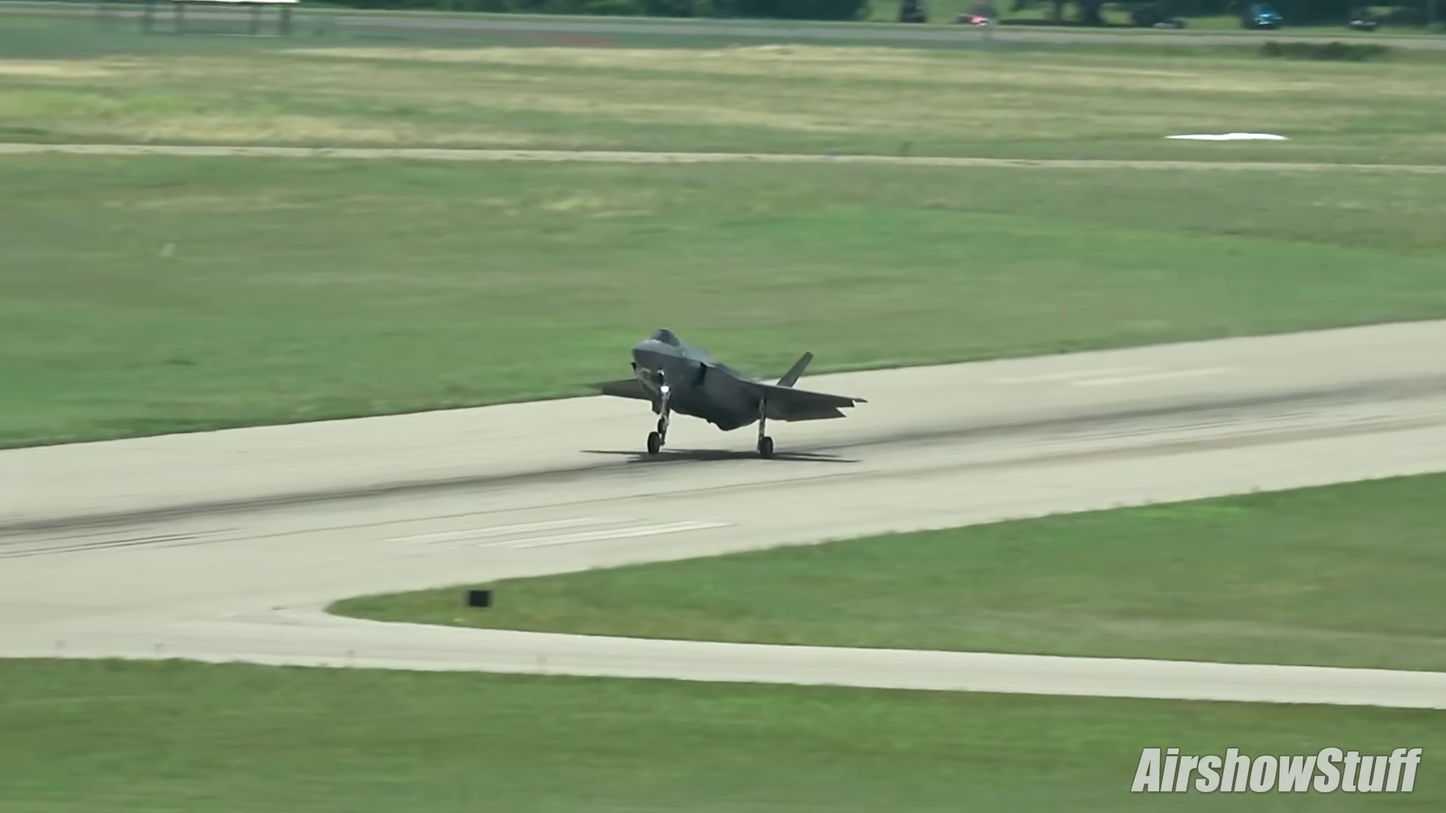F35: (595, 324, 869, 461)
